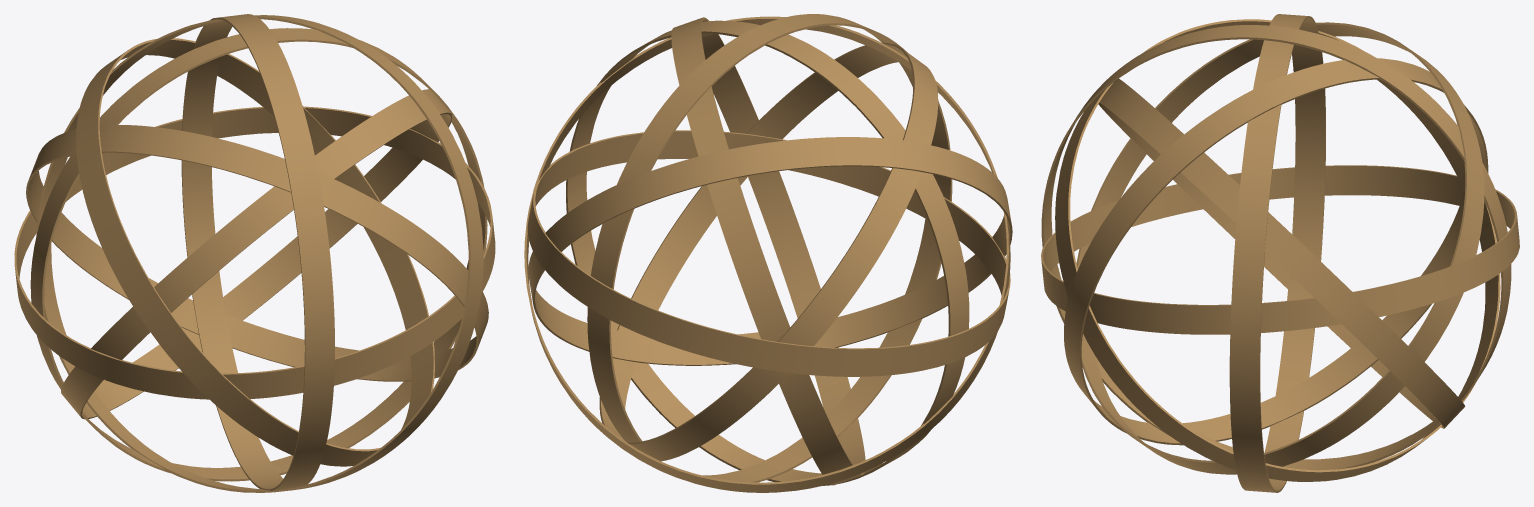
File: ETC21.glb
3 renders of one model, left to right at view 1: azimuth 30°, elevation 25°; view 2: azimuth 150°, elevation 25°; view 3: azimuth 270°, elevation 25°, orthographic.
Visible parts, largest first — view 1: BP_ETC21; view 2: BP_ETC21; view 3: BP_ETC21.
Boxes of the visible parts, bbox=[...] form: BP_ETC21: bbox=[14, 14, 495, 492]; BP_ETC21: bbox=[524, 14, 1012, 492]; BP_ETC21: bbox=[1041, 14, 1519, 492].
Bounding box in the file's own units: 0.1482 × 0.1478 × 0.1469.
